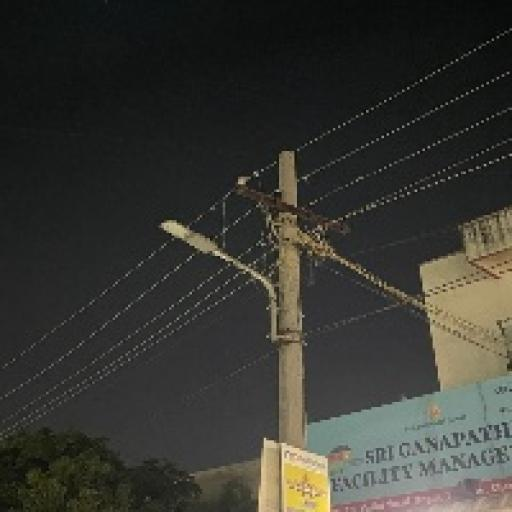Not Working: (152, 214, 224, 262)
